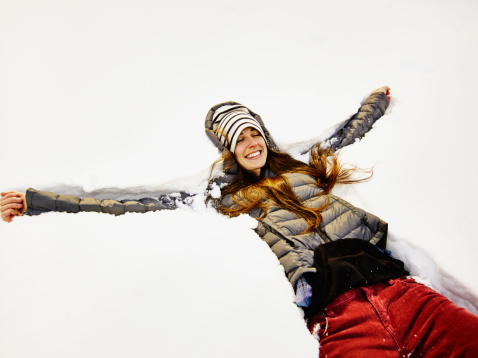deitado: (181, 87, 436, 350)
